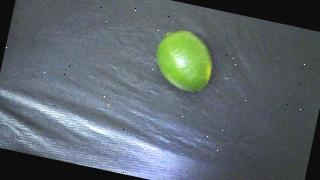LOCAL: (150, 26, 219, 95)
